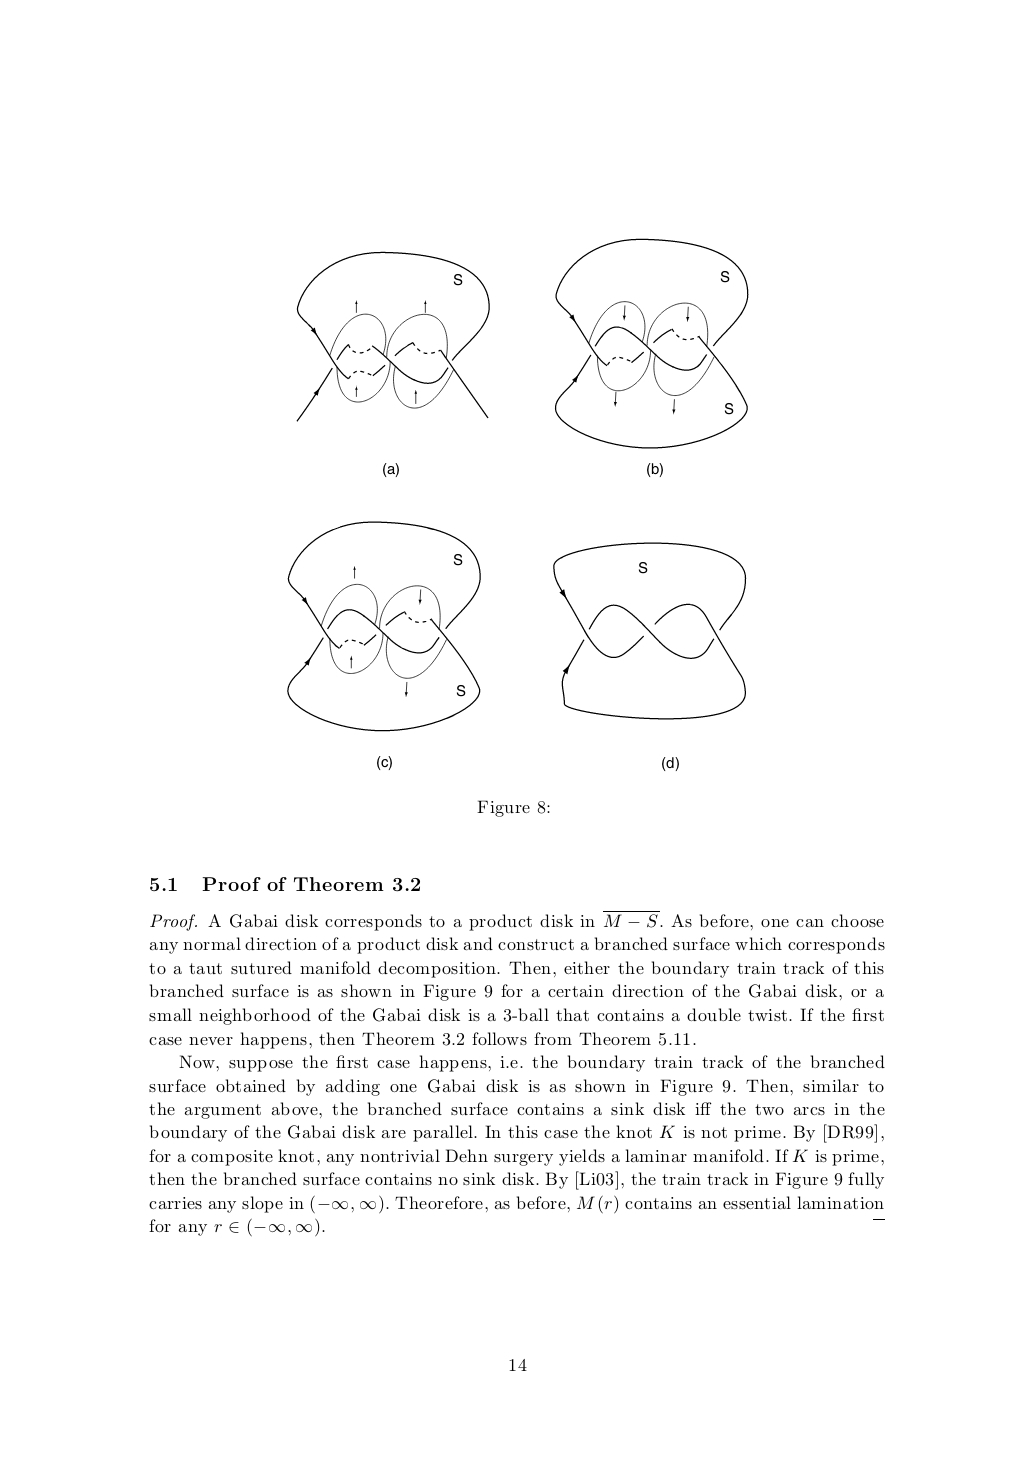figure: (555, 236, 748, 450), (287, 520, 480, 732), (553, 541, 746, 719), (296, 250, 489, 422)
